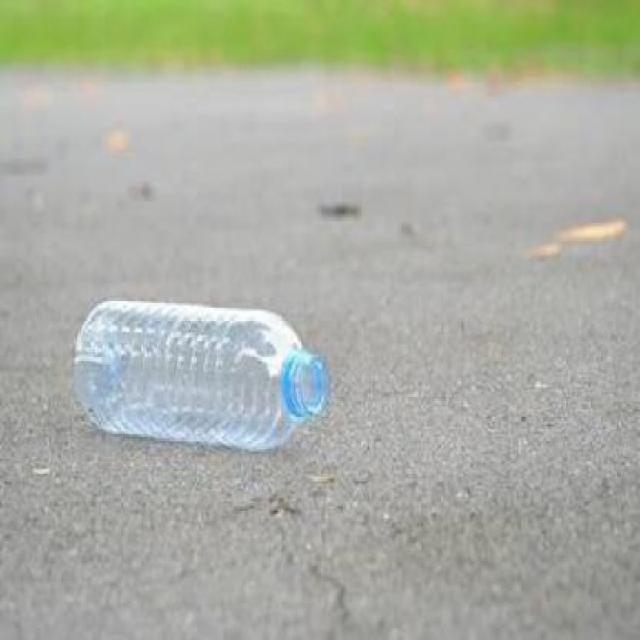bottle: (75, 252, 342, 473)
